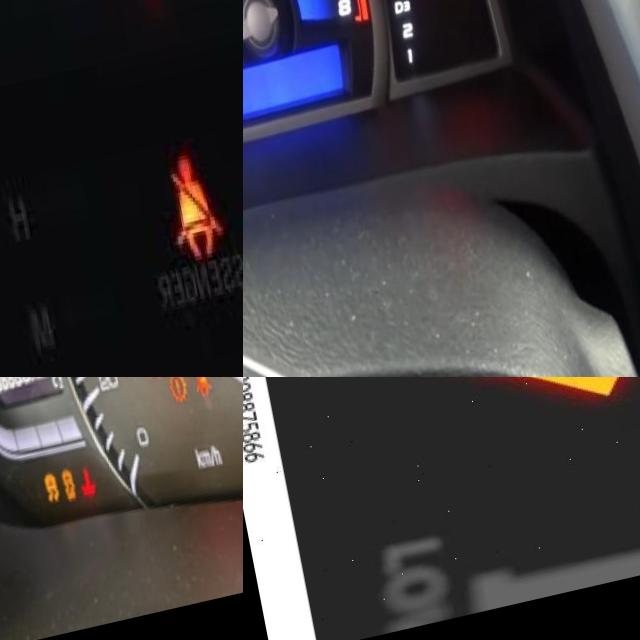High Engine Coolant Temperature: (56, 473, 79, 510)
Seat Belt: (147, 169, 210, 279), (173, 377, 199, 420)
Washer Fluid: (348, 377, 640, 450)
